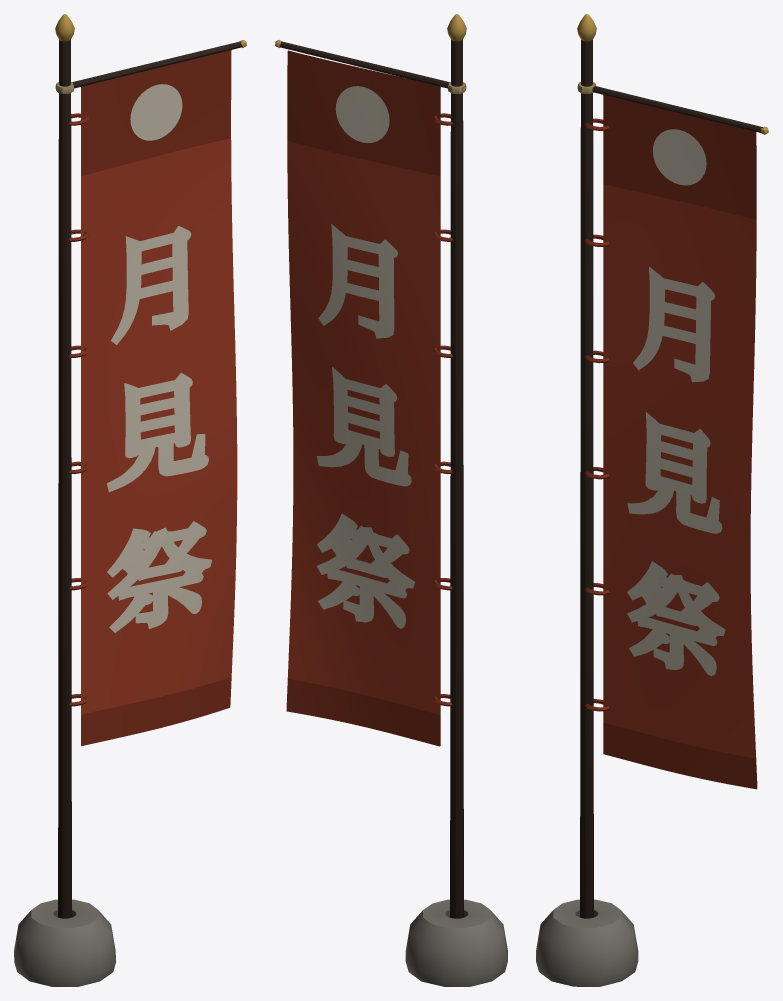
File: nobori_red.glb
3 views of the same model, side by side, from view 1: azimuth 30°, elevation 25°; view 2: azimuth 150°, elevation 25°; view 3: azimuth 330°, elevation 25° (orthographic).
Visible parts, largest first — view 1: banner_cloth, banner; view 2: banner_cloth, banner; view 3: banner_cloth, banner.
Boxes of the visible parts, box(x1,y1,x2,y2) form: banner_cloth: box(81, 50, 237, 745); banner: box(14, 14, 246, 986); banner_cloth: box(286, 50, 440, 746); banner: box(275, 14, 507, 986); banner_cloth: box(603, 95, 757, 789); banner: box(536, 14, 768, 986).
Size of what is drawn, in the model's own units: 0.8942 by 3.61 by 0.3513.
